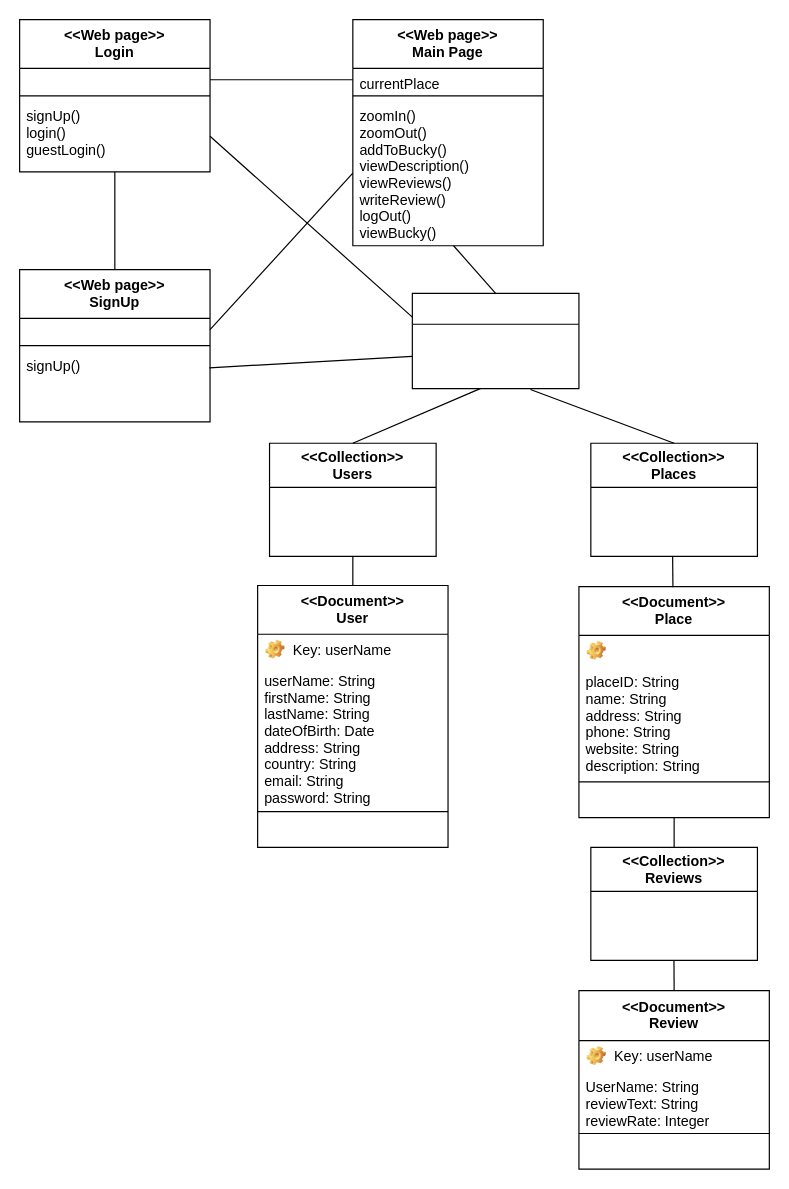
Image size: 789x1189. Some labels were removed from this diagram. Here are the shapes that lost their labels. From the top down, the box of each, then its label:
(411, 292, 579, 389): Database
(578, 635, 769, 666): Key: placeID
